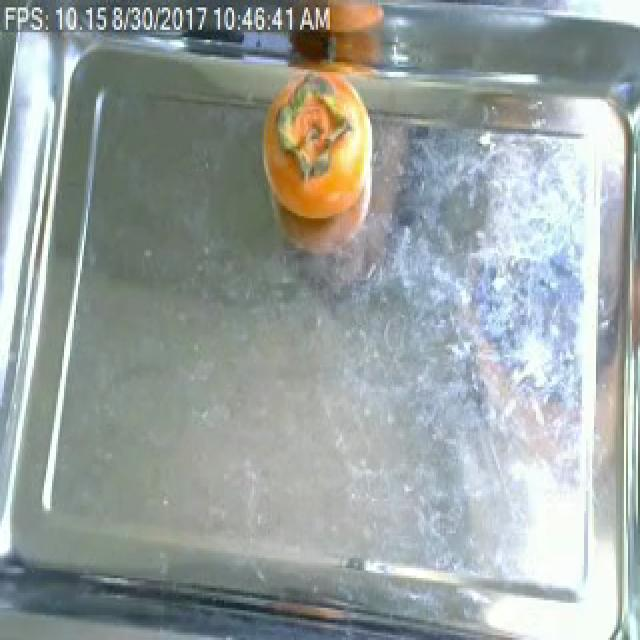Fruit: (256, 52, 388, 266)
